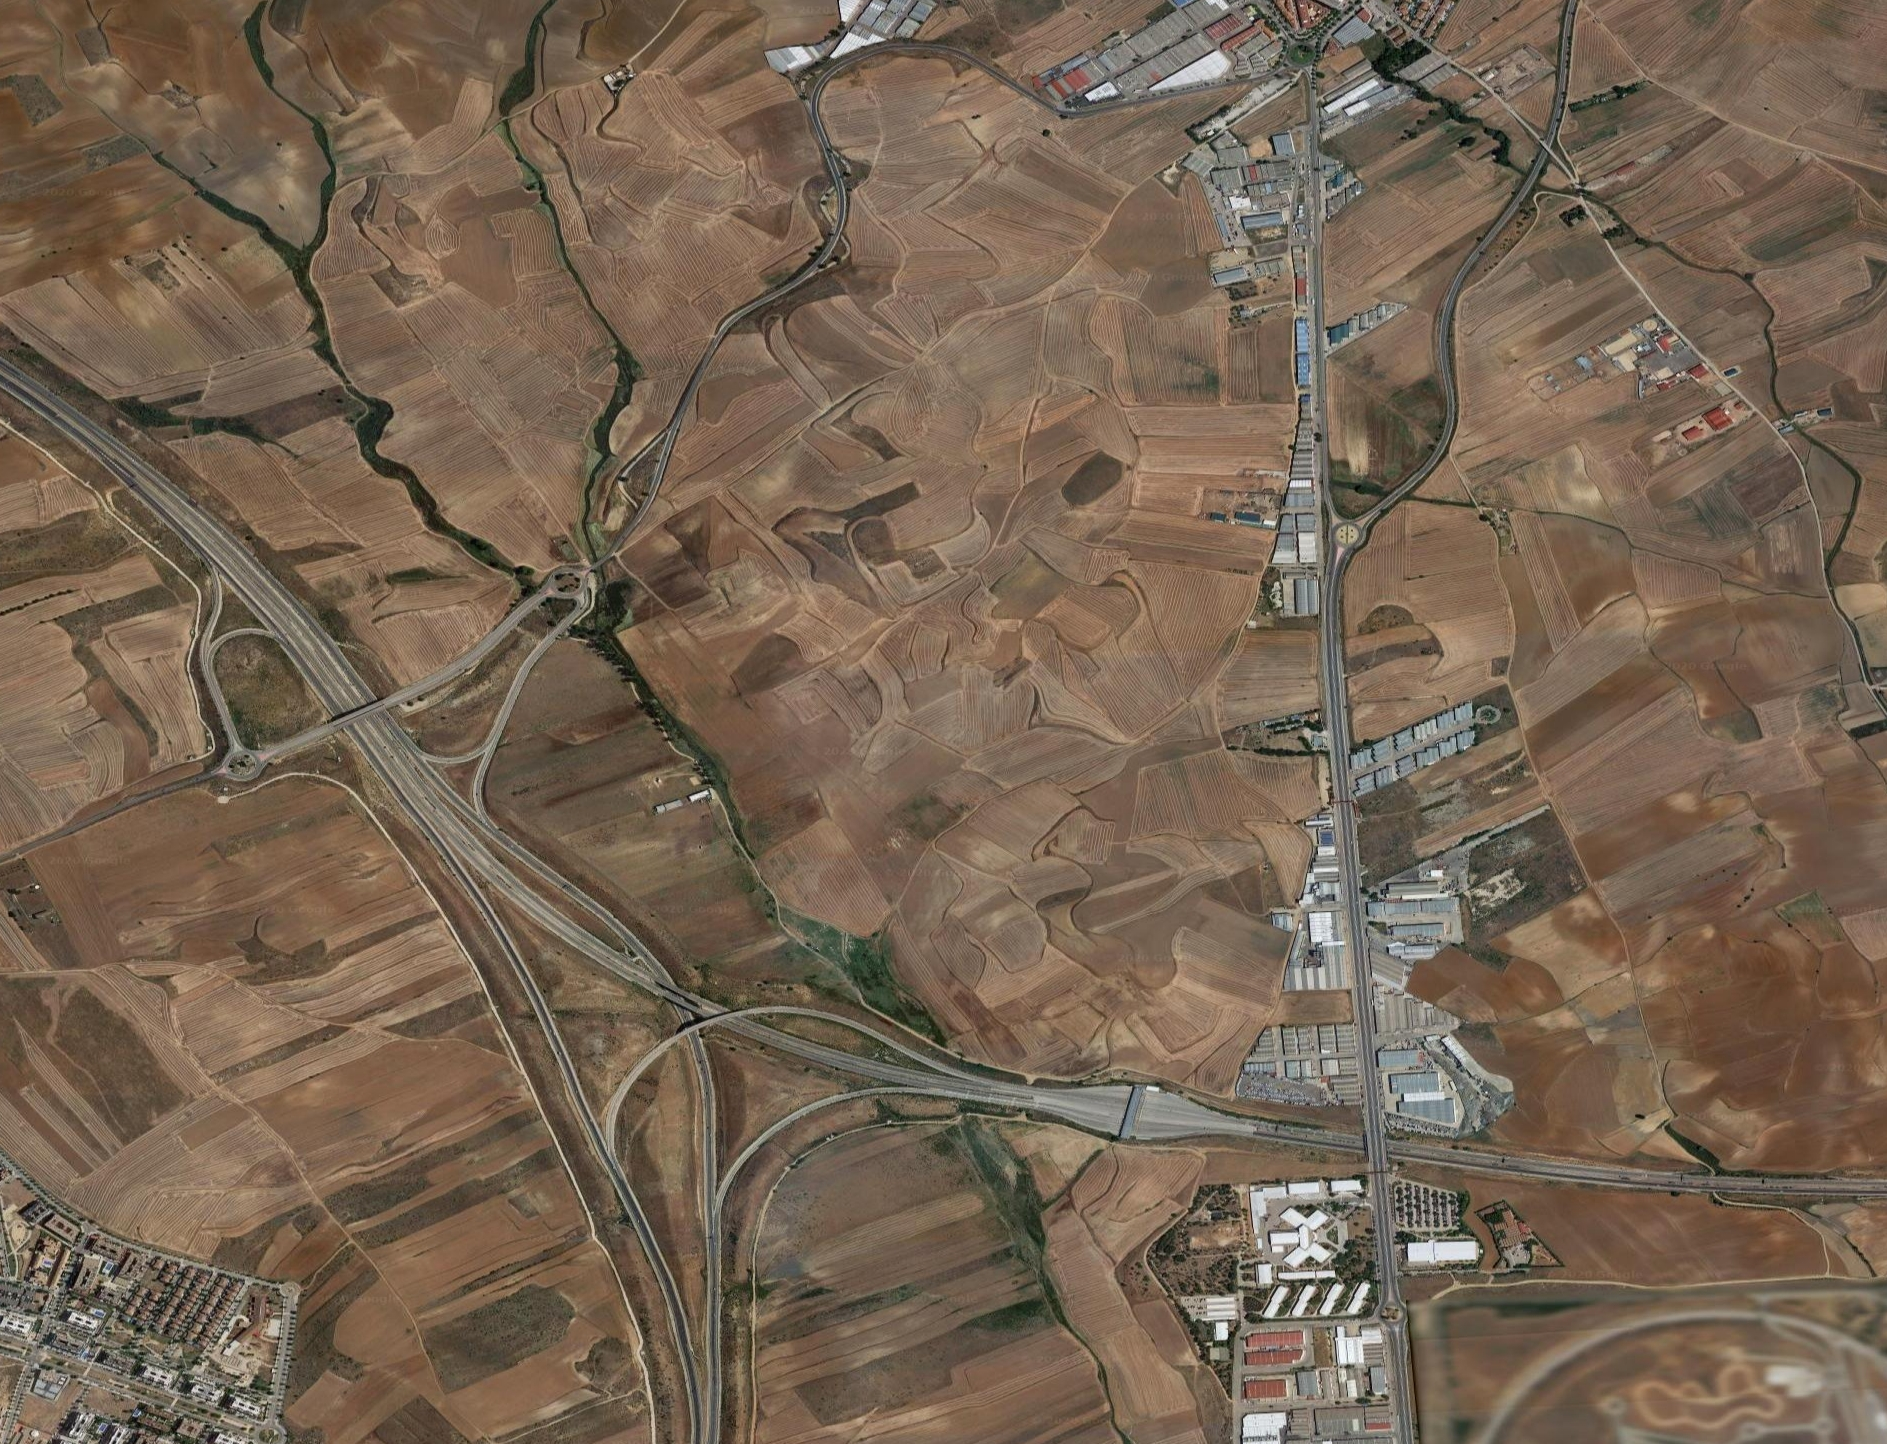industrial: (1191, 1154, 1488, 1444), (1039, 2, 1430, 112)
motorway: (2, 322, 666, 919), (469, 846, 1027, 1444), (1028, 995, 1887, 1232), (1261, 511, 1458, 1444), (1339, 2, 1599, 511)
